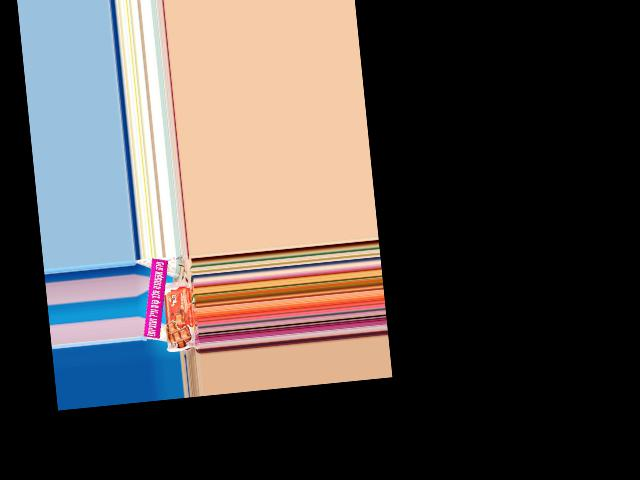chocolate: (159, 278, 198, 354)
